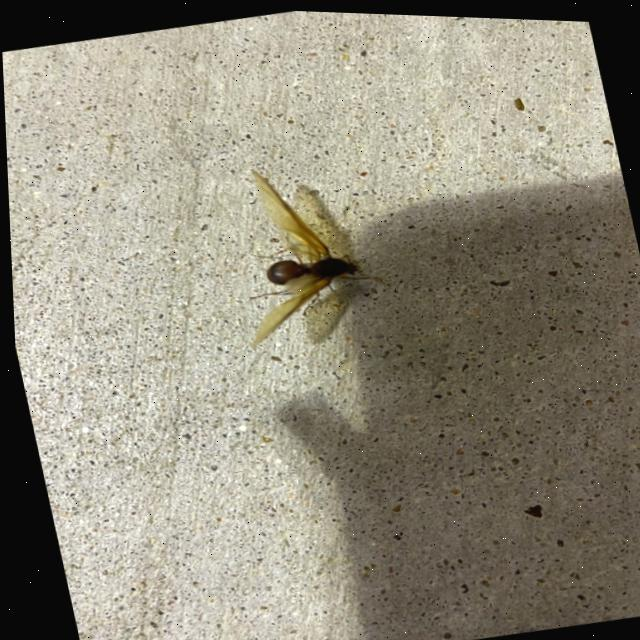Alive-Male-Alate: (211, 147, 390, 349)
